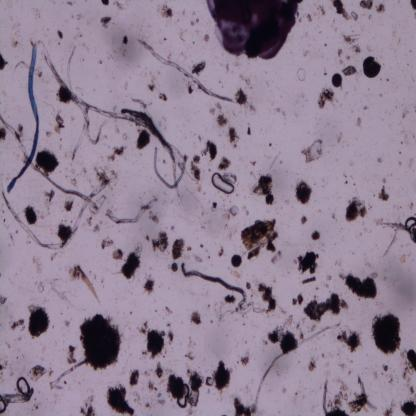Air bubble: (212, 173, 234, 195), (178, 386, 190, 410), (16, 378, 29, 394), (404, 216, 416, 229)
Background material: (79, 313, 122, 371), (240, 219, 278, 260), (370, 312, 402, 356), (304, 292, 349, 323), (338, 266, 378, 300), (69, 264, 100, 304), (348, 374, 378, 414), (380, 220, 407, 260), (139, 321, 167, 358), (106, 381, 136, 415), (204, 360, 232, 391), (267, 324, 297, 352), (28, 304, 50, 341), (254, 173, 276, 207), (344, 194, 368, 224), (34, 149, 60, 176), (123, 243, 143, 278), (397, 344, 416, 380), (338, 327, 363, 354), (330, 381, 349, 415), (186, 368, 202, 408), (294, 251, 319, 275), (257, 282, 277, 312), (47, 276, 70, 300), (302, 137, 324, 162), (293, 178, 312, 206), (166, 375, 185, 400), (150, 230, 169, 254), (233, 396, 255, 416), (343, 32, 361, 56), (188, 152, 202, 182), (108, 43, 128, 63), (332, 0, 351, 21), (319, 88, 336, 110), (27, 365, 48, 382), (156, 1, 173, 22), (202, 138, 218, 160), (23, 203, 38, 226), (135, 128, 151, 149), (399, 398, 416, 416), (222, 205, 238, 224), (172, 237, 184, 262), (234, 85, 248, 106), (108, 142, 124, 160), (80, 396, 95, 415), (58, 223, 72, 242), (132, 387, 144, 409), (10, 317, 26, 333), (4, 34, 21, 49), (191, 61, 208, 76), (189, 309, 203, 327), (42, 186, 56, 204), (228, 127, 240, 148), (53, 113, 64, 135), (0, 358, 10, 382), (383, 399, 397, 415), (377, 184, 390, 201), (58, 86, 70, 104), (99, 236, 115, 249), (155, 358, 164, 381), (142, 278, 154, 295), (32, 256, 43, 274), (238, 350, 249, 368), (238, 72, 252, 86), (218, 155, 231, 170), (342, 64, 357, 77), (99, 13, 112, 28), (66, 345, 76, 364), (146, 380, 159, 394), (216, 113, 229, 127), (73, 22, 83, 40), (129, 369, 139, 387), (28, 5, 40, 20), (112, 119, 122, 136), (291, 294, 304, 307), (183, 335, 196, 348), (272, 251, 284, 265), (316, 1, 328, 15), (323, 272, 333, 288), (241, 202, 251, 218), (177, 26, 187, 42), (223, 293, 236, 305), (64, 198, 75, 212), (310, 228, 321, 242), (297, 67, 307, 82), (359, 0, 374, 10), (0, 53, 8, 71), (274, 108, 286, 120), (308, 356, 317, 372), (301, 276, 317, 285), (146, 78, 156, 92), (376, 2, 386, 16), (232, 253, 242, 267), (164, 304, 174, 318), (50, 250, 60, 264), (112, 249, 124, 260), (200, 30, 210, 43), (157, 392, 166, 406), (341, 170, 349, 185), (335, 130, 343, 144), (7, 229, 14, 245), (408, 199, 416, 213), (0, 125, 7, 141), (402, 132, 412, 143), (1, 339, 11, 350), (114, 0, 126, 9), (285, 314, 294, 326), (350, 12, 359, 24), (329, 210, 337, 223), (398, 252, 406, 265), (0, 397, 6, 414), (214, 102, 224, 112), (247, 103, 257, 113), (17, 123, 24, 137), (245, 123, 252, 137), (355, 116, 363, 128), (186, 351, 194, 363), (300, 215, 308, 227), (37, 281, 44, 294), (159, 90, 168, 100), (92, 224, 101, 234), (63, 319, 73, 328), (170, 262, 178, 273), (211, 201, 218, 213), (167, 333, 174, 345), (218, 246, 225, 258), (249, 158, 259, 166), (70, 178, 80, 186), (376, 154, 384, 164), (223, 64, 233, 72), (336, 45, 342, 58), (209, 106, 216, 117), (408, 384, 415, 395), (381, 363, 389, 372), (401, 111, 410, 119), (409, 0, 416, 10), (0, 295, 7, 304), (100, 0, 110, 6), (244, 283, 252, 290), (58, 30, 64, 39), (125, 81, 130, 91), (122, 36, 129, 43), (193, 16, 200, 23), (306, 14, 312, 22), (46, 132, 54, 138), (97, 59, 105, 65), (323, 67, 328, 76), (68, 1, 75, 7), (76, 13, 82, 20), (146, 401, 152, 408), (339, 58, 345, 65), (199, 242, 205, 249), (36, 402, 41, 410), (346, 54, 352, 60), (198, 257, 203, 264), (304, 50, 309, 57), (2, 216, 6, 224), (267, 142, 273, 147), (190, 19, 195, 25), (187, 245, 192, 251), (362, 105, 368, 110), (14, 228, 18, 235), (323, 41, 327, 48), (64, 379, 68, 385), (400, 139, 404, 145), (398, 160, 402, 166), (398, 150, 402, 155), (163, 35, 167, 40), (386, 78, 390, 82), (352, 182, 355, 186), (126, 136, 129, 140), (130, 310, 132, 315)
Cellulose filter fibre: (38, 41, 194, 182), (1, 174, 117, 252), (0, 118, 98, 210), (251, 324, 341, 414), (136, 38, 233, 102), (180, 262, 255, 316), (66, 43, 87, 161), (104, 195, 158, 225), (49, 360, 87, 390), (0, 387, 35, 404), (322, 378, 329, 415)
Cotton: (7, 42, 39, 193)
Microfibre: (153, 146, 188, 189)
Pen: (206, 0, 302, 62), (362, 54, 382, 79), (331, 72, 342, 88)
